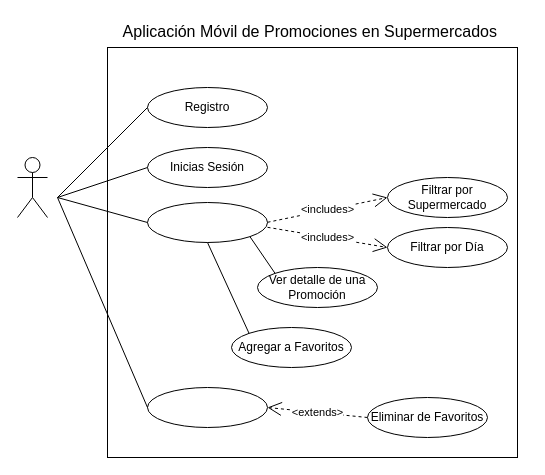
Some shapes in this 545 by 475 pixel diagram are drawn without their labels. The centre of each missing label's shape, as x and y in pixels:
Promociones Sugeridas: (x=207, y=222)
User: (x=32, y=187)
Ver Favoritos: (x=207, y=407)
